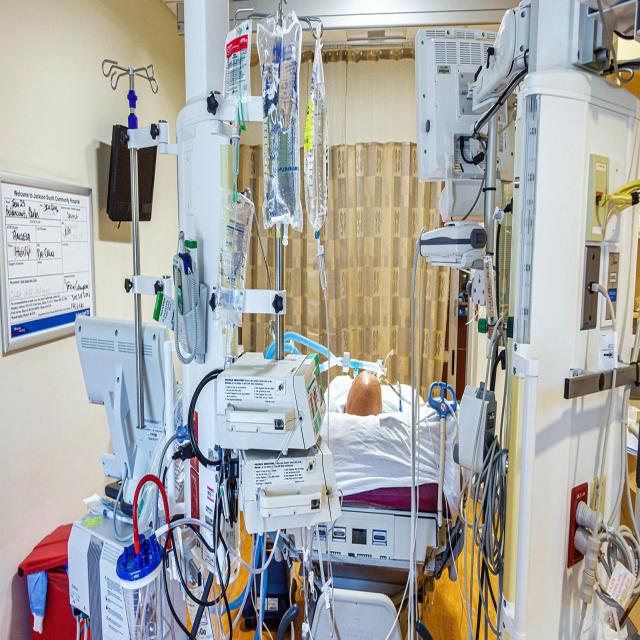iv_fluids: (229, 28, 344, 350)
ventilator: (415, 31, 625, 620)
